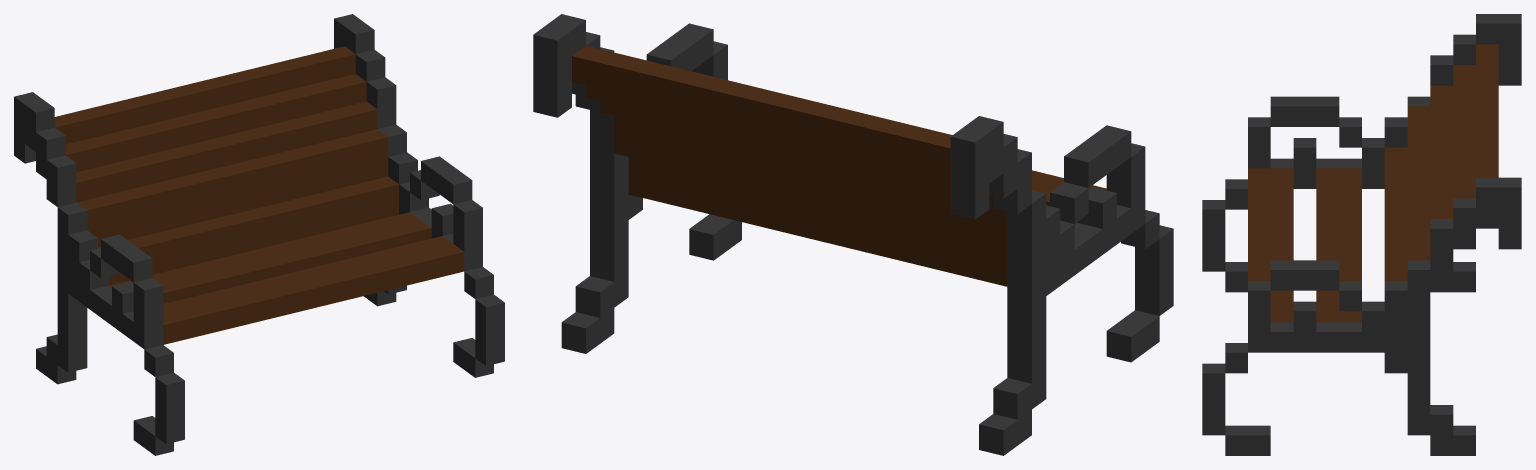
File: drzewko-79.obj
3 renders of one model, left to right at view 1: azimuth 30°, elevation 25°; view 2: azimuth 150°, elevation 25°; view 3: azimuth 270°, elevation 25°, orthographic. The views are drawn at different scales.
Size of the model in its own units: 1.8 by 1.3 by 1.4.
Materials: 1 (1 with a texture image).
